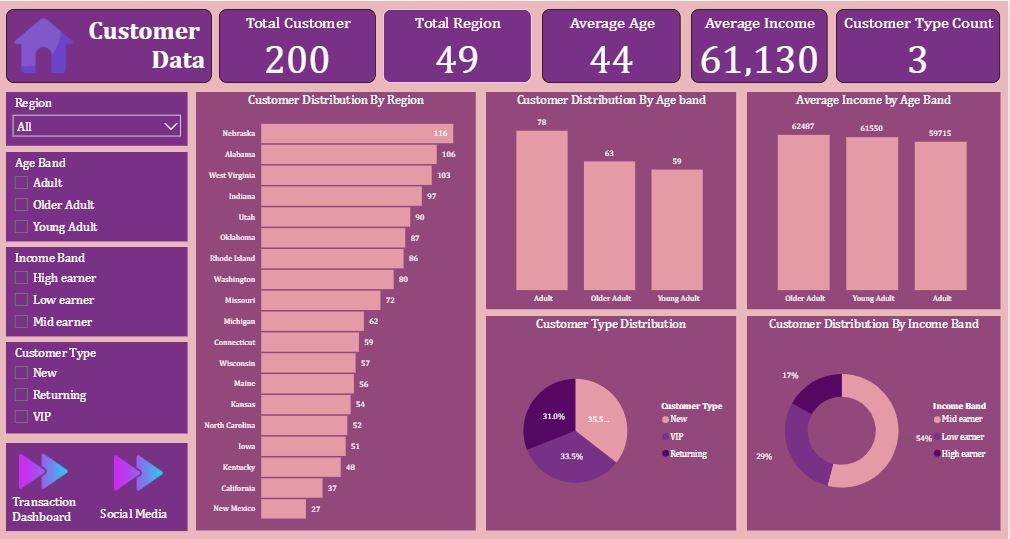

The page's visual inventory and layout, read from the dashboard file:
{"tool":"powerbi","page":{"name":"Customer Analysis Dashboard","canvas":[1500,800],"ordinal":1},"visuals":[{"type":"card","title":"Total Customer","fields":{"Values":["New Measures.Total Customers"]},"box":[327.5,11.5,232.5,109.7],"z":0},{"type":"card","title":"Total Region","fields":{"Values":["New Measures.Total Region"]},"box":[571.5,11.5,221.1,109.7],"z":1000},{"type":"card","title":"Average Age","fields":{"Values":["New Measures.Average Age"]},"box":[807.3,11.5,206.3,109.7],"z":2000},{"type":"card","title":"Average Income","fields":{"Values":["New Measures.Average Income"]},"box":[1028.4,11.5,203.1,109.7],"z":3000},{"type":"card","title":"Customer Type Count","fields":{"Values":["New Measures.Customer Type"]},"box":[1244.5,11.5,244,109.7],"z":4000},{"type":"slicer","fields":{"Values":["public customerdata.region"]},"box":[9.8,135.9,270.2,80],"z":5000},{"type":"textbox","box":[9.8,11.5,306.2,109.7],"z":6000},{"type":"slicer","fields":{"Values":["public customerdata.Age Band"]},"box":[9.8,224.3,270.2,132.6],"z":7000},{"type":"slicer","fields":{"Values":["public customerdata.Income Band"]},"box":[9.8,365.2,270.2,132.6],"z":8000},{"type":"columnChart","title":"Average Income by Age Band","fields":{"Y":["Avg(public customerdata.income)"],"Category":["public customerdata.Age Band"]},"box":[1111.9,135.9,376.6,322.6],"z":9000},{"type":"pieChart","title":"Customer Type Distribution","fields":{"Y":["CountNonNull(public customerdata.customerid)"],"Category":["public customerdata.customertype"]},"box":[723.8,468.3,371.7,319.3],"z":10000},{"type":"columnChart","title":"Customer Distribution By Age band","fields":{"Category":["public customerdata.Age Band"],"Y":["CountNonNull(public customerdata.customerid)"]},"box":[723.8,135.9,371.7,322.6],"z":11000},{"type":"barChart","title":"Customer Distribution By Region","fields":{"Category":["public customerdata.region"],"Y":["CountNonNull(public transactiondata.customerid)"]},"box":[293.1,135.9,415.9,651.7],"z":12000},{"type":"donutChart","title":"Customer Distribution By Income Band","fields":{"Category":["public customerdata.Income Band"],"Y":["CountNonNull(public customerdata.customerid)"]},"box":[1111.9,468.3,376.6,319.3],"z":13000},{"type":"image","box":[14.7,11.5,103.2,109.7],"z":14000},{"type":"slicer","fields":{"Values":["public customerdata.customertype"]},"box":[9.8,507.6,270.2,135.9],"z":15000},{"type":"textbox","box":[9.8,656.7,270.2,131],"z":16000},{"type":"textbox","box":[14.7,728.7,149,59],"z":17000},{"type":"textbox","box":[145.7,746.7,124.5,36],"z":18000},{"type":"image","box":[19.7,653.4,93.3,93.3],"z":19000},{"type":"image","box":[160.5,653.4,93.3,98.3],"z":20000}]}

Visuals, with their boxes in screenshot pixels (x1, y1, x2, y2), scaled from the page's 1500x800 canvas onto the 1010x539 screenshot:
"Total Customer" card: 221,8,377,82
"Total Region" card: 385,8,534,82
"Average Age" card: 544,8,682,82
"Average Income" card: 692,8,829,82
"Customer Type Count" card: 838,8,1002,82
slicer - public customerdata.region: 7,92,189,145
textbox: 7,8,213,82
slicer - public customerdata.Age Band: 7,151,189,240
slicer - public customerdata.Income Band: 7,246,189,335
"Average Income by Age Band" columnChart: 749,92,1002,309
"Customer Type Distribution" pieChart: 487,316,738,531
"Customer Distribution By Age band" columnChart: 487,92,738,309
"Customer Distribution By Region" barChart: 197,92,477,531
"Customer Distribution By Income Band" donutChart: 749,316,1002,531
image: 10,8,79,82
slicer - public customerdata.customertype: 7,342,189,434
textbox: 7,442,189,531
textbox: 10,491,110,531
textbox: 98,503,182,527
image: 13,440,76,503
image: 108,440,171,506
